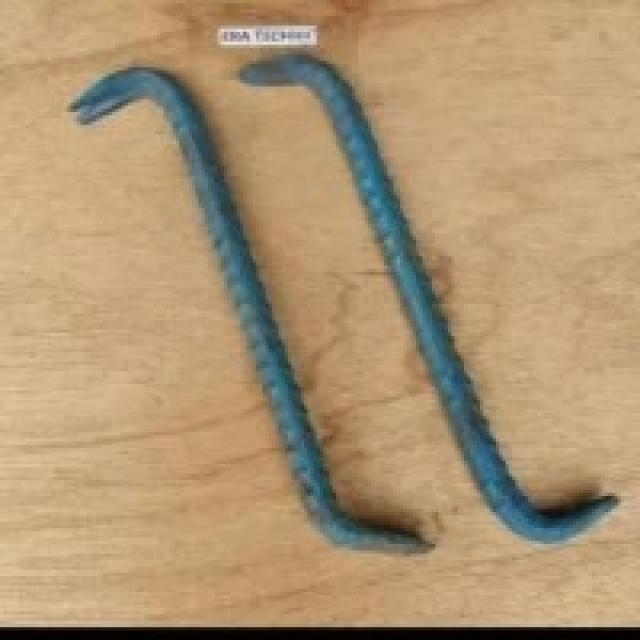Linggis: (69, 64, 439, 557)
